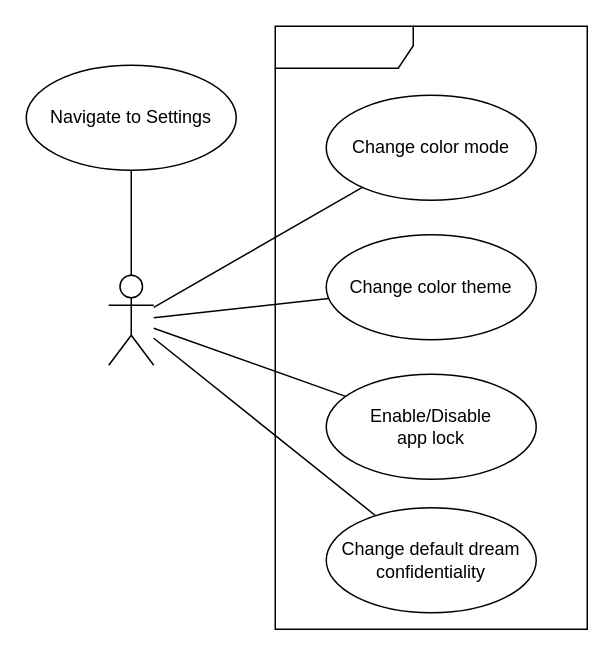
The diagram is 614 pixels wide and 656 high, and some of its shapes have lost their labels. Here are the shapes that lost their labels. From the top down, the box of each, then its label:
(107, 274, 154, 365): User
(274, 25, 587, 629): Settings
